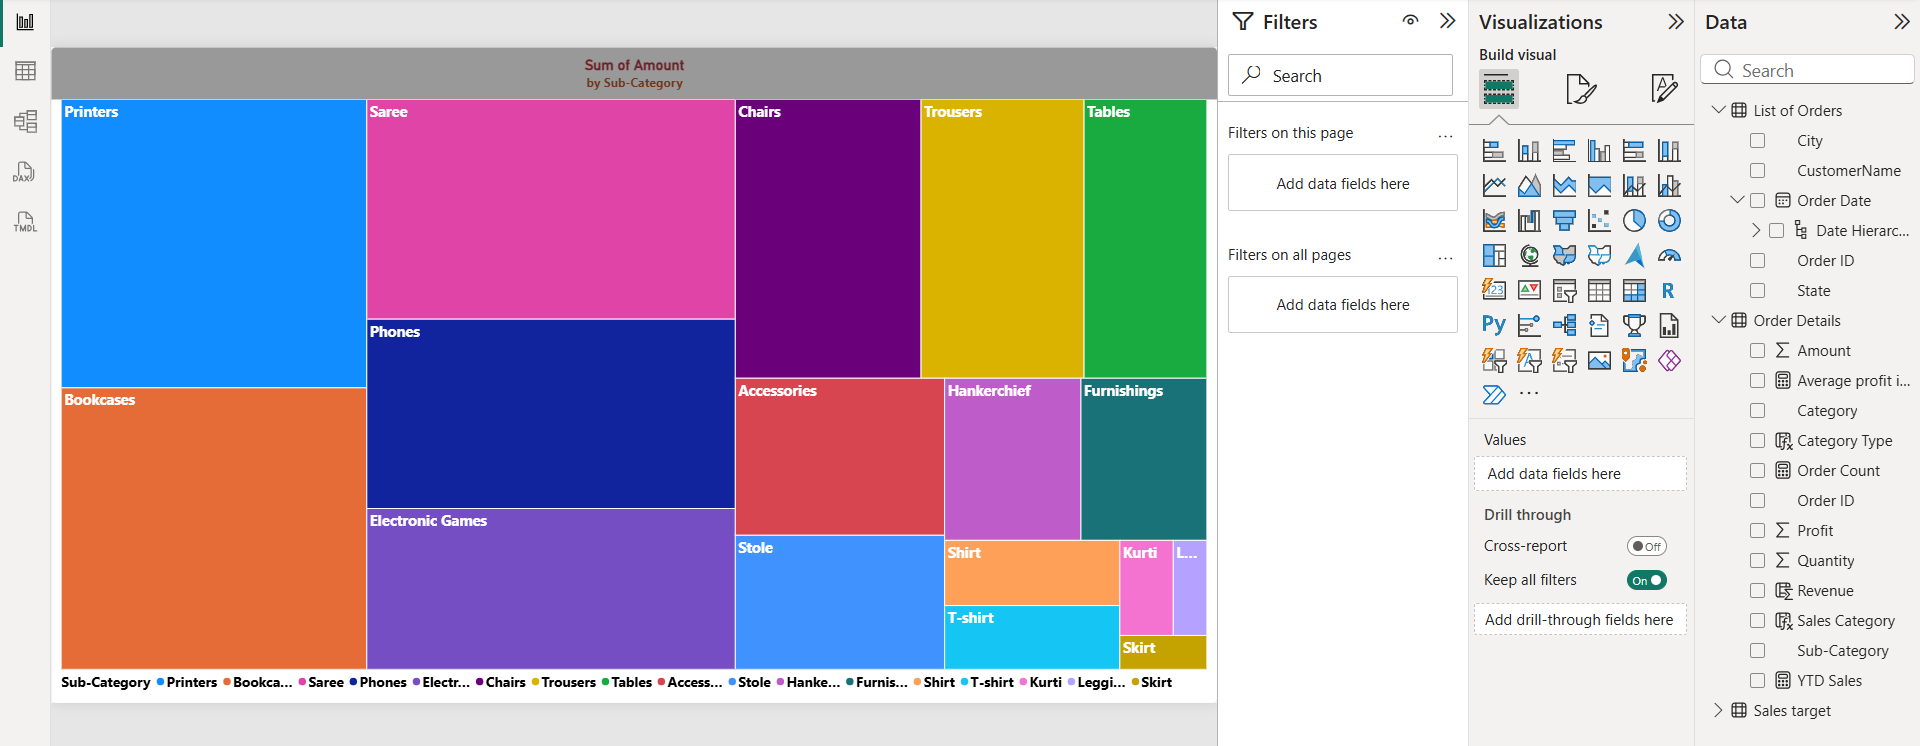

The page's visual inventory and layout, read from the dashboard file:
{"tool":"powerbi","page":{"name":"category","canvas":[1920,1080],"ordinal":4},"visuals":[{"type":"treemap","fields":{"Group":["Order Details .Sub-Category"],"Values":["Sum(Order Details .Amount)"]},"box":[0,0,1920.4,1080.6],"z":0}]}

Visuals, with their boxes on the page's 1920x1080 design canvas (x1, y1, x2, y2). These are canvas units, not pixel positions in the 1920x746 screenshot, which may show the page scaled, cropped or inside an application window:
treemap - Order Details .Sub-Category x Sum(Order Details .Amount): bbox=[0, 0, 1920, 1081]
